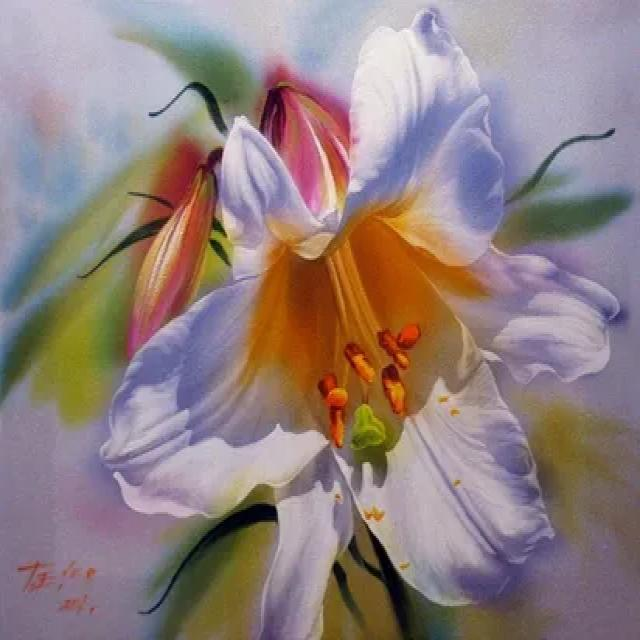lily: (103, 32, 623, 638)
